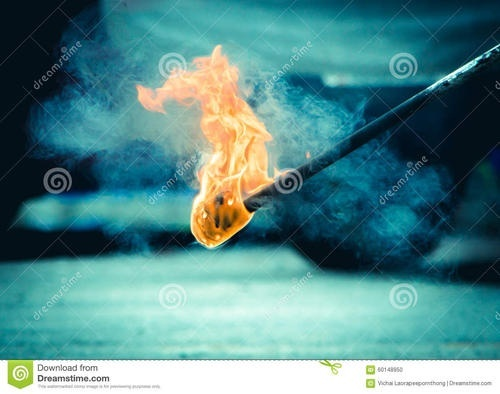fire: (138, 45, 278, 243)
